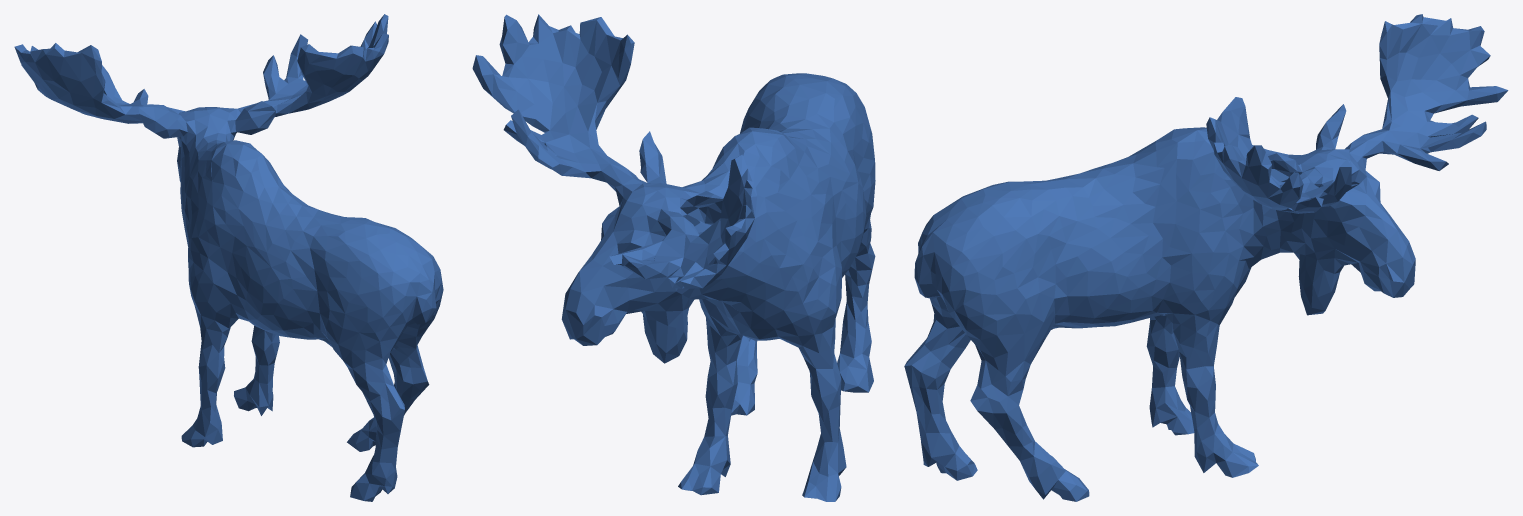
File: moose.obj
3 views of the same model, side by side, from view 1: azimuth 30°, elevation 25°; view 2: azimuth 150°, elevation 25°; view 3: azimuth 270°, elevation 25° (orthographic). The views are drawn at different scales.
Visible parts, largest first — view 1: Elan_Model.001; view 2: Elan_Model.001; view 3: Elan_Model.001.
Part boxes in pixels (<box>): Elan_Model.001: <box>14,14,443,501</box>; Elan_Model.001: <box>472,14,875,501</box>; Elan_Model.001: <box>904,14,1508,501</box>.
Size of the model in its own units: 0.872 by 1.02 by 1.36.
